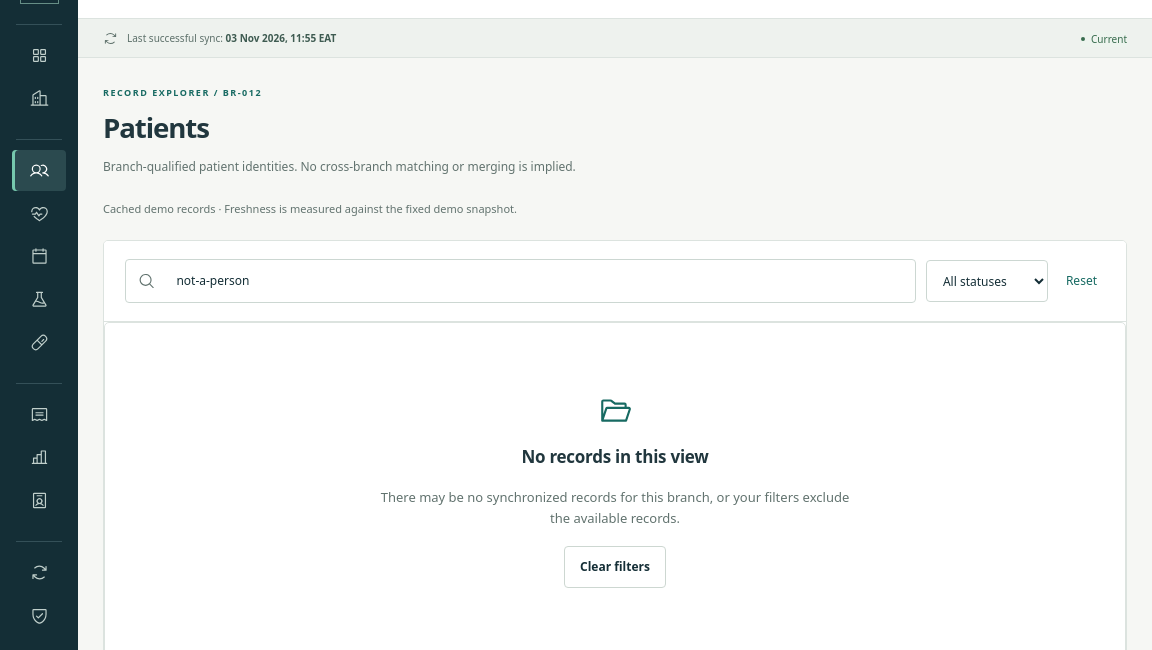
Test: critical portal journeys › renders an empty branch and supports search reset
Expected: the heading "No records in this view" is shown, 521,444 -> 709,470
Click the button "Clear filters" at x=615, y=567, box 564,546 -> 666,588
(page scrolled)
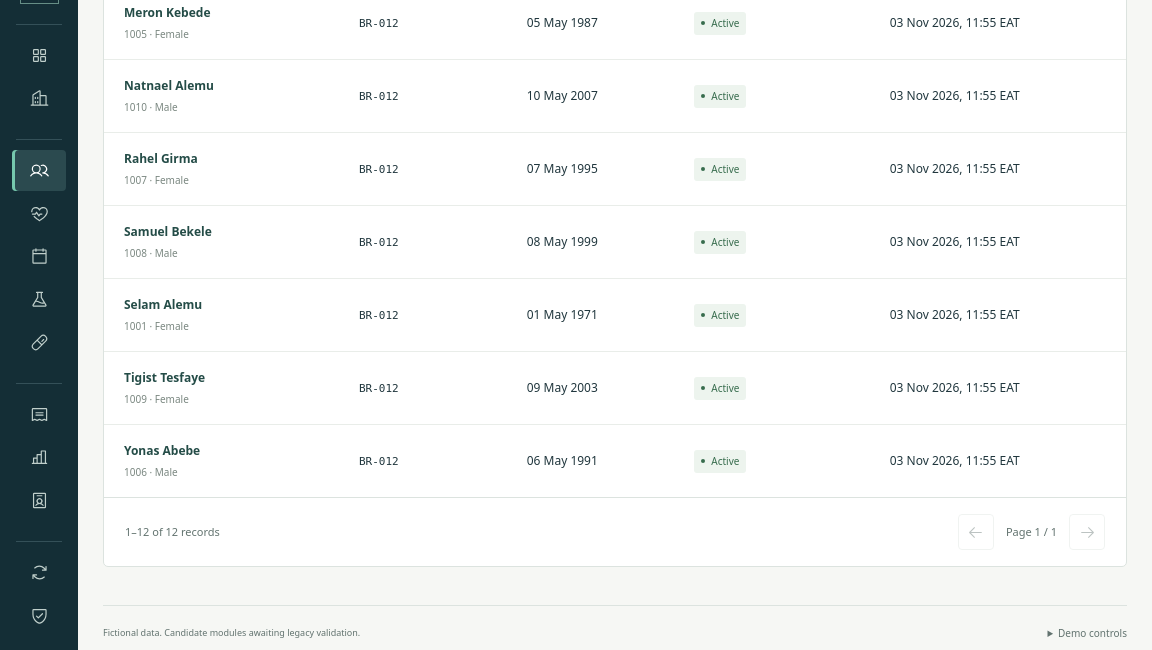
Expected: the link "Selam Alemu 1001 · Female" is shown, 124,296 -> 202,333
